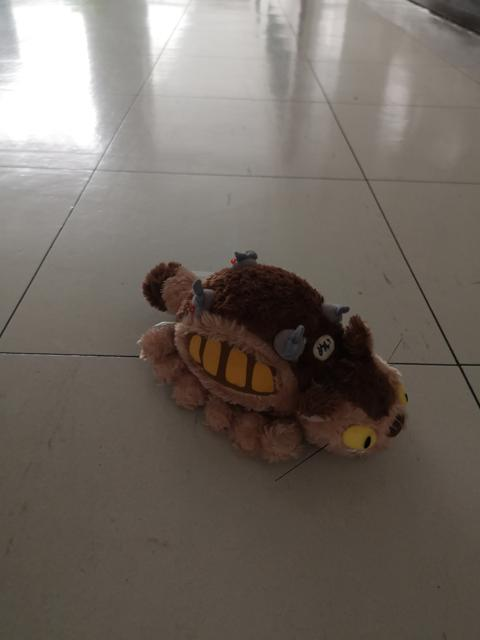nekobus: (130, 245, 419, 488)
